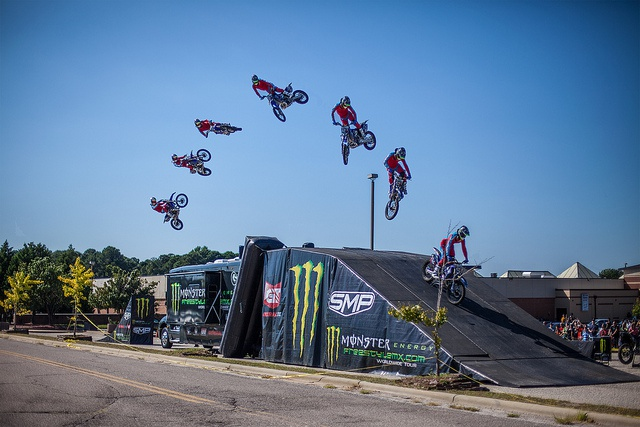non-vehicle: (421, 246, 468, 305), (332, 120, 376, 165), (261, 82, 308, 122), (384, 172, 409, 220), (162, 191, 188, 230), (617, 330, 639, 364), (184, 148, 211, 175), (205, 121, 242, 137)
